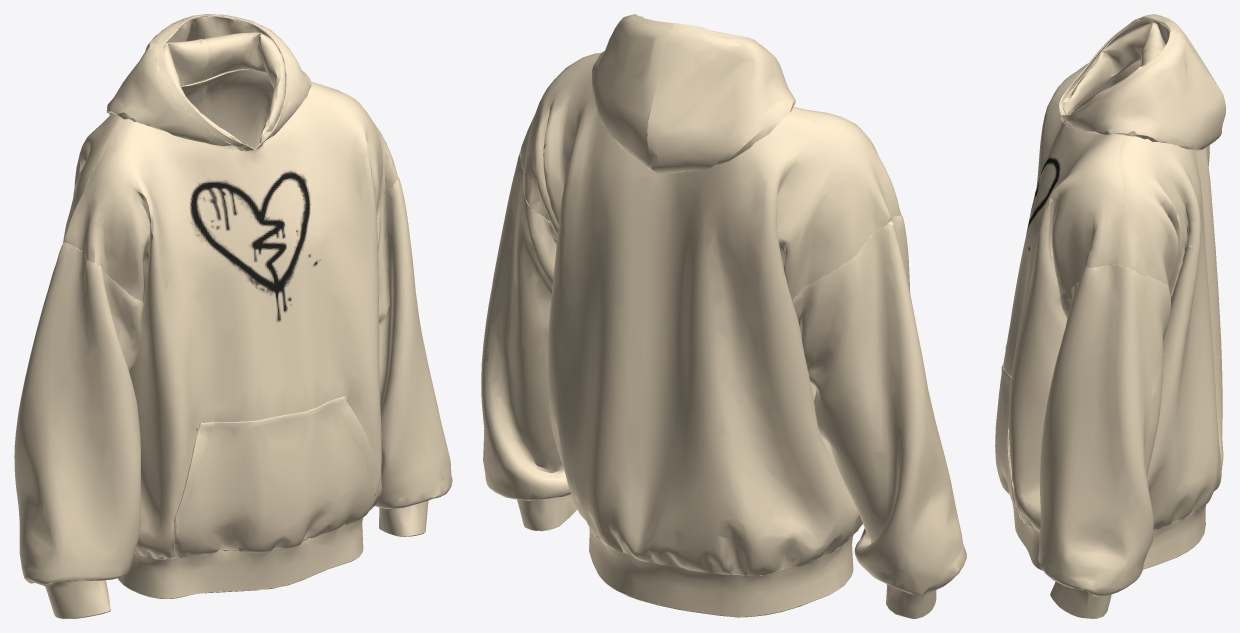
File: abrico.glb
3 views of the same model, side by side, from view 1: azimuth 30°, elevation 25°; view 2: azimuth 150°, elevation 25°; view 3: azimuth 270°, elevation 25° (orthographic). The views are drawn at different scales.
Visible parts, largest first — view 1: Hoodie_Pocket003; view 2: Hoodie_Pocket003; view 3: Hoodie_Pocket003.
Boxes of the visible parts, <box> form: Hoodie_Pocket003: <box>14,14,452,618</box>; Hoodie_Pocket003: <box>481,14,966,618</box>; Hoodie_Pocket003: <box>995,14,1225,618</box>.
Size of the model in its own units: 2.46 by 2.92 by 1.2.
1 material, 1 textured.
